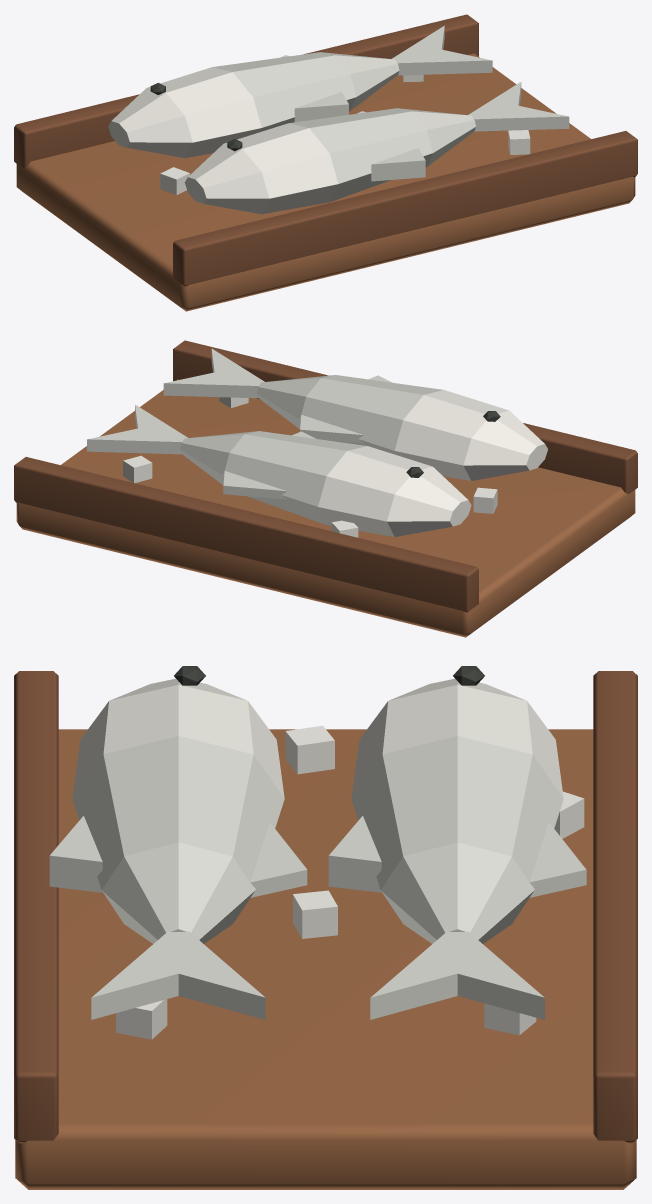
File: salted_fish.glb
3 renders of one model, top to bottom at view 1: azimuth 30°, elevation 25°; view 2: azimuth 150°, elevation 25°; view 3: azimuth 270°, elevation 25°, orthographic. The views are drawn at different scales.
Visible parts, largest first — view 1: salted_fish; view 2: salted_fish; view 3: salted_fish.
Boxes of the visible parts, x1,y1,x2,y2 form: salted_fish: (14,14,637,311); salted_fish: (14,340,637,637); salted_fish: (14,666,637,1189).
Bounding box in the file's own units: 1.82 × 0.4418 × 1.19.
